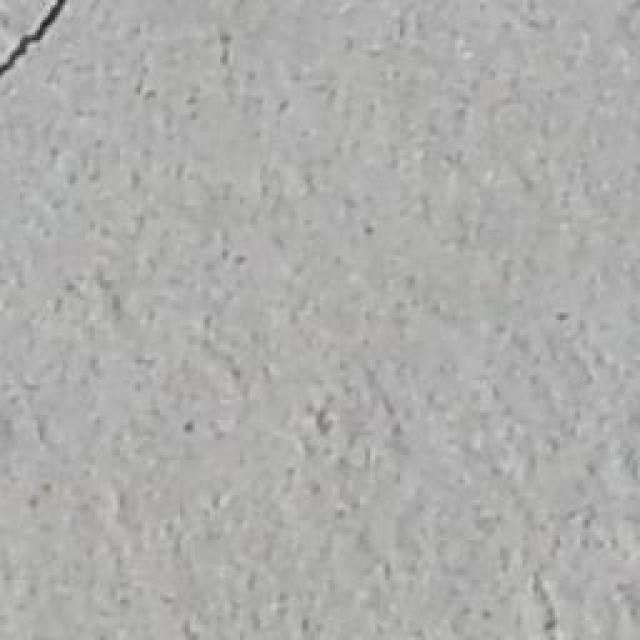concrete-crack: (0, 0, 79, 83)
